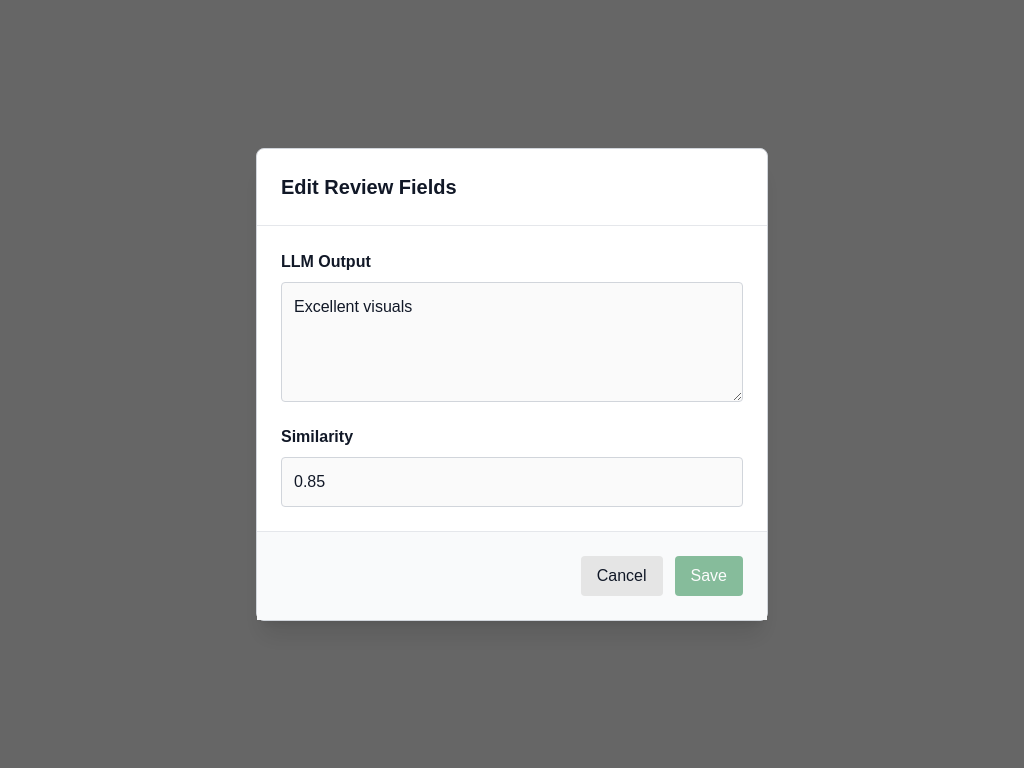
it: EditResultModal › validates similarity score range
This screenshot has width=1024, height=768.
Replace the text in the field showing "0.85" with "1.5": (512, 482) [281,456,743,506]
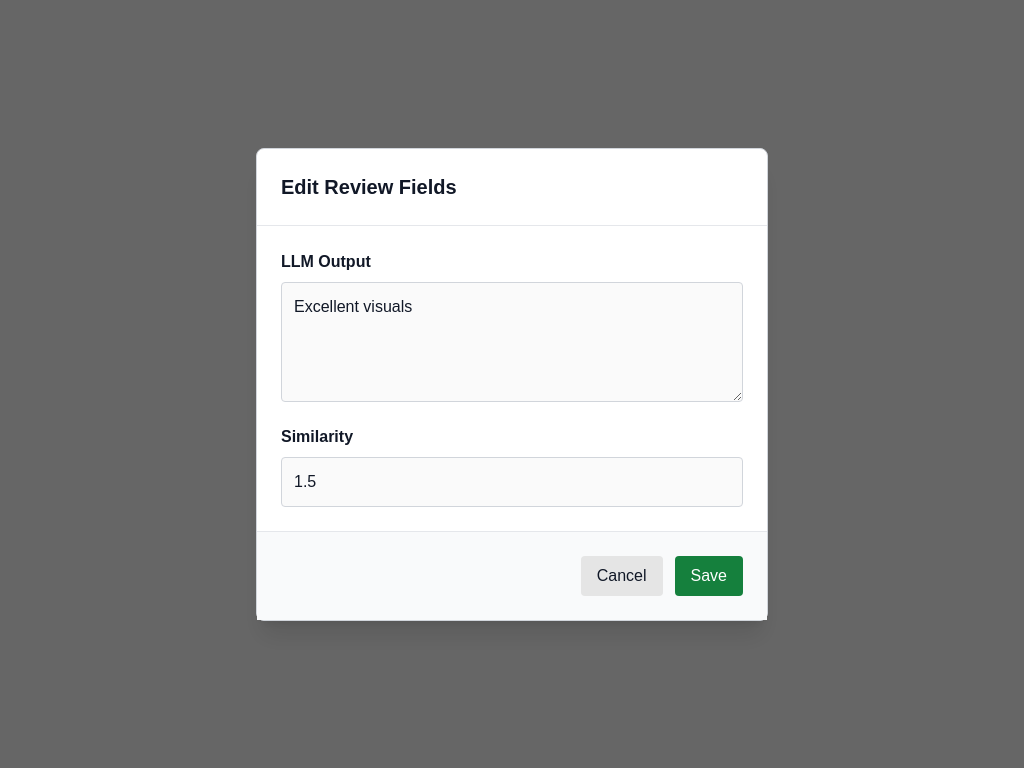
Click the button "Save": (709, 576) [674,556,743,596]
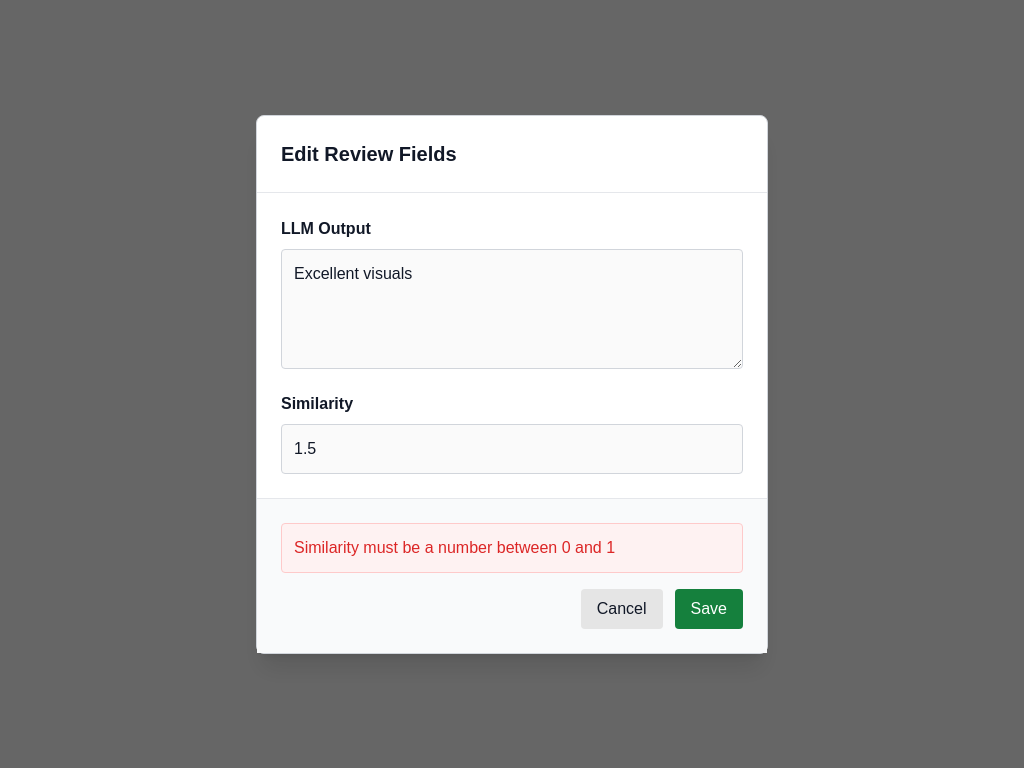
Expected: the text "Similarity must be a number between 0 and 1" is shown, [281,522,743,572]
